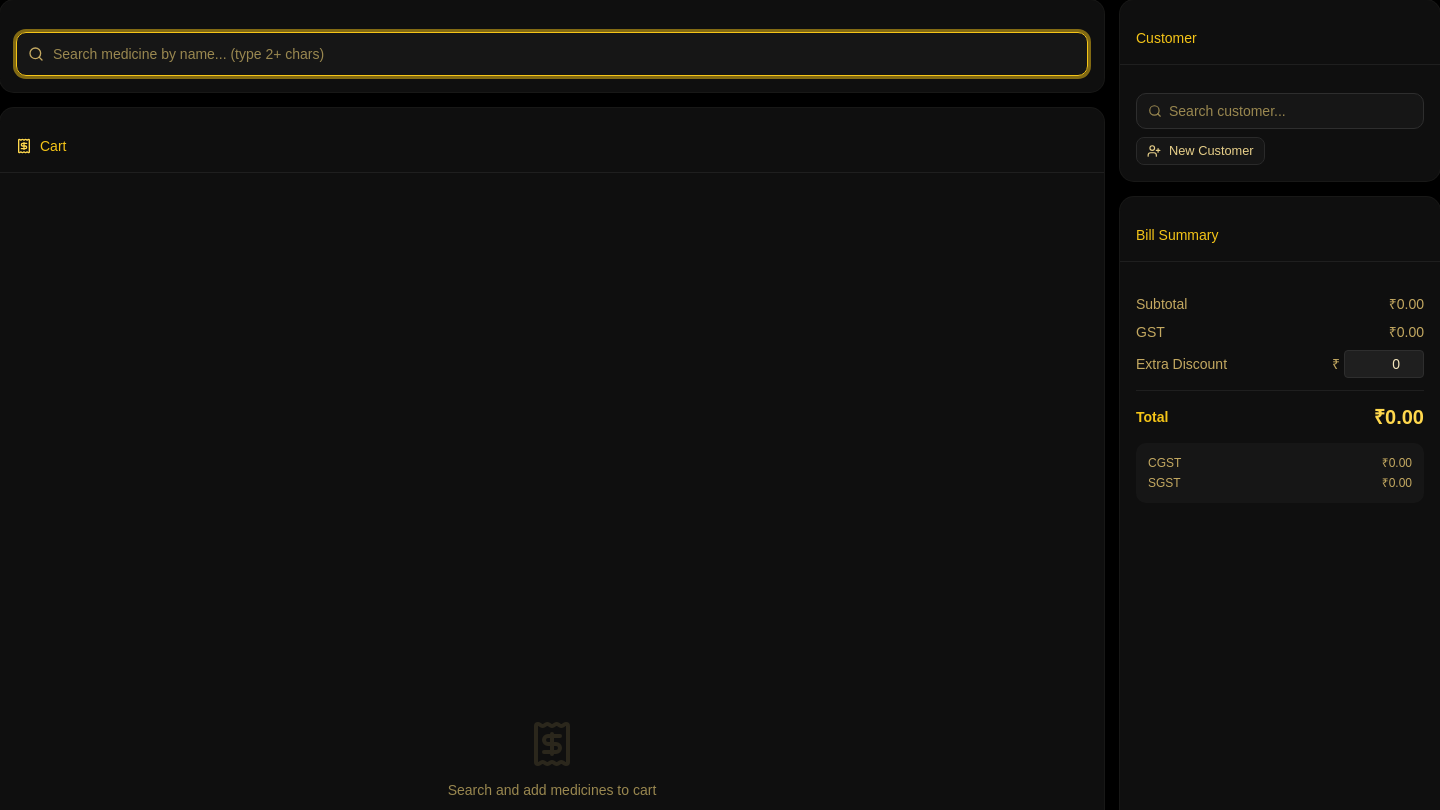
batch selection at the POS › takes the FEFO batch on a plain click, with no extra step
Type "para" into the field with placeholder "Search medicine by name... (type 2+ chars)" at (552, 54), box 16,32 -> 1088,76
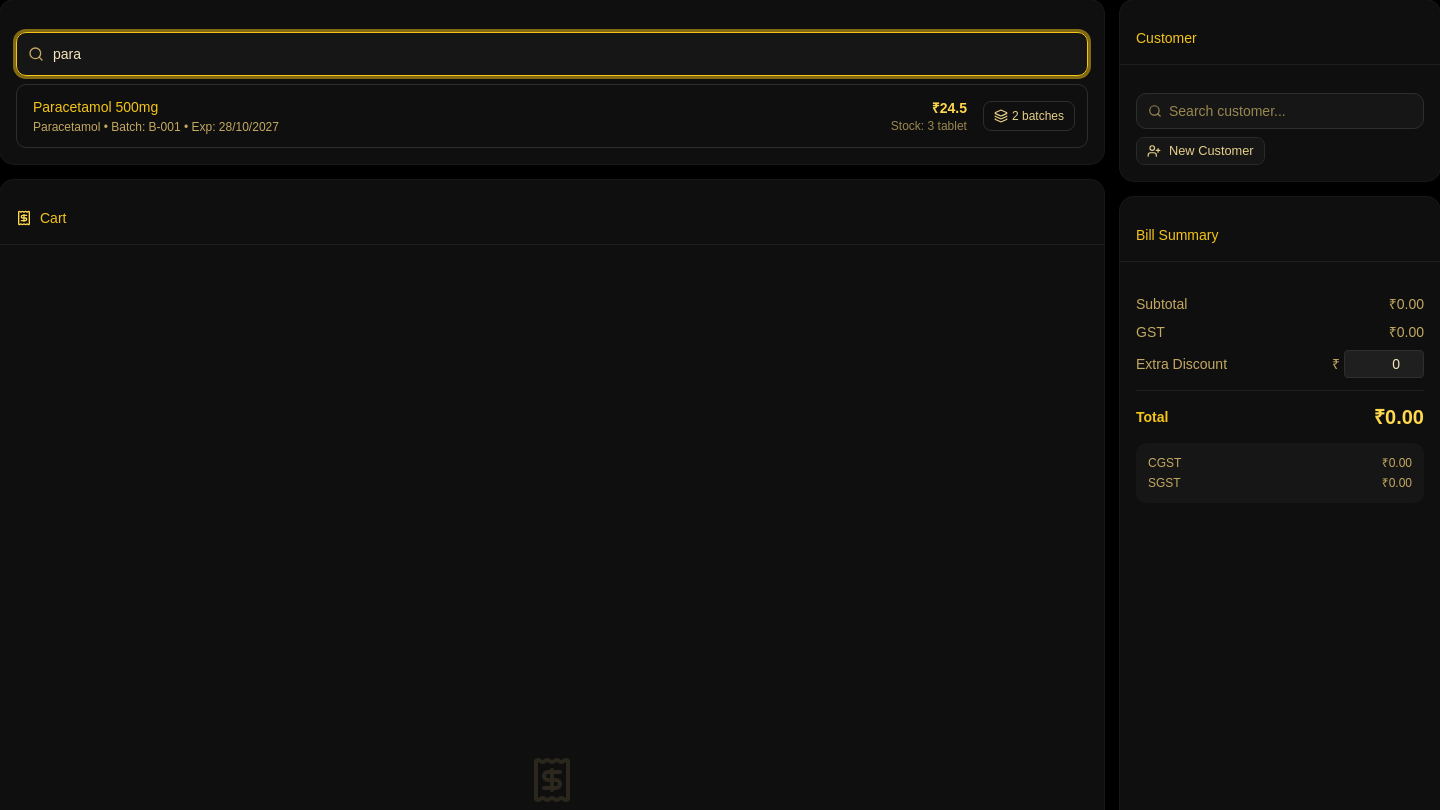
Click the button "Paracetamol 500mg" at (96, 107), box 17,85 -> 983,147
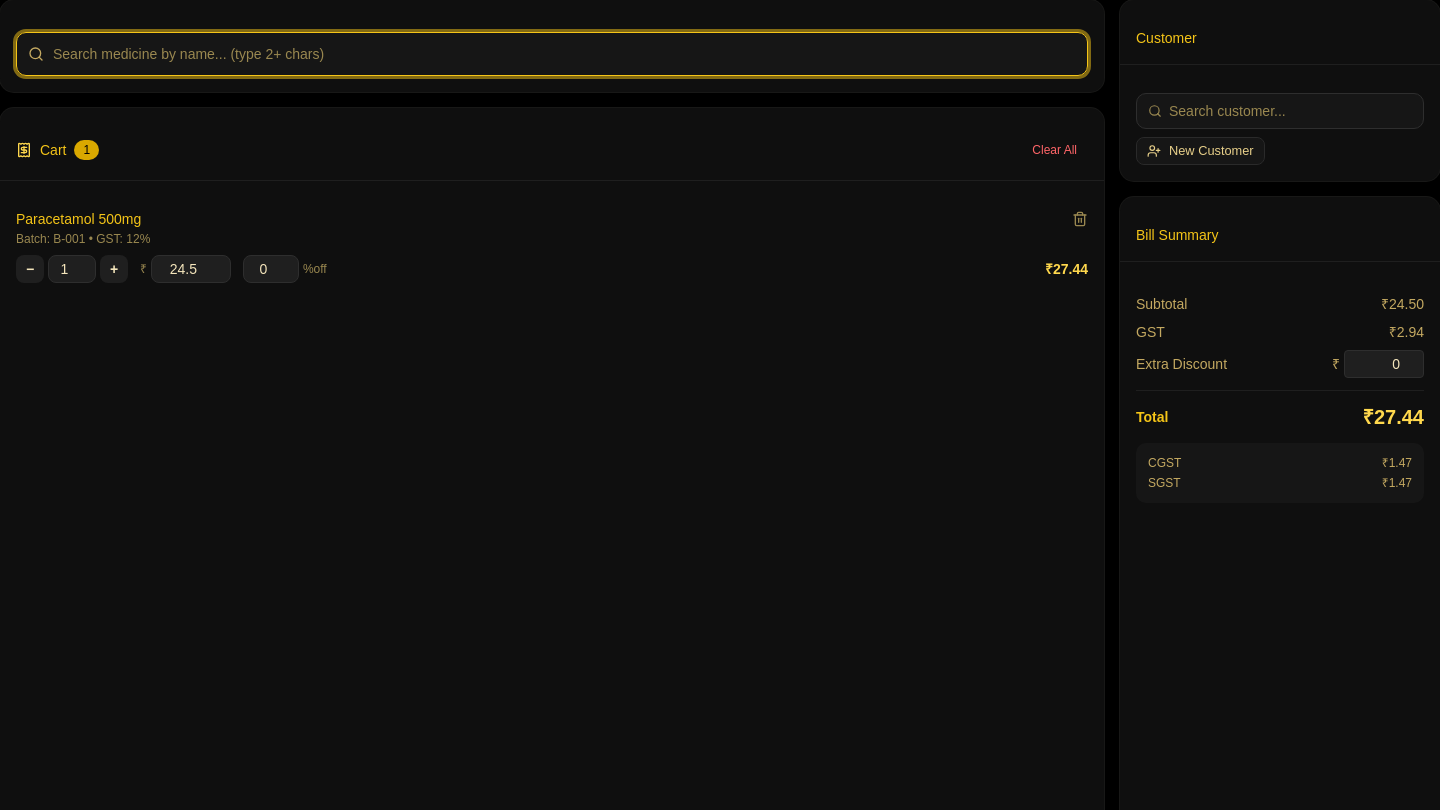
expect the text "Batch: B-001 • GST: 12%" is shown: met, box 16,232 -> 150,246
